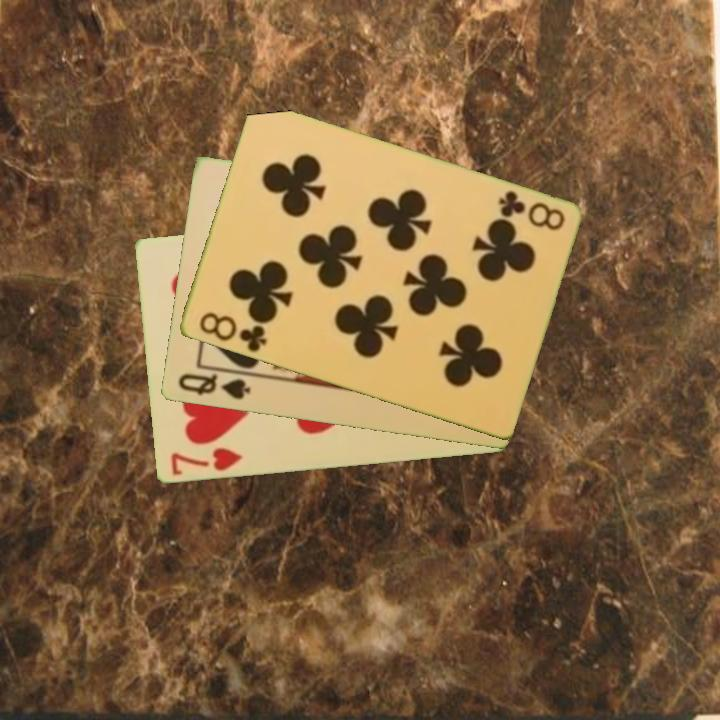7h: (167, 444, 245, 478)
8c: (195, 309, 269, 356), (494, 187, 568, 234)
Qs: (174, 370, 253, 403)
